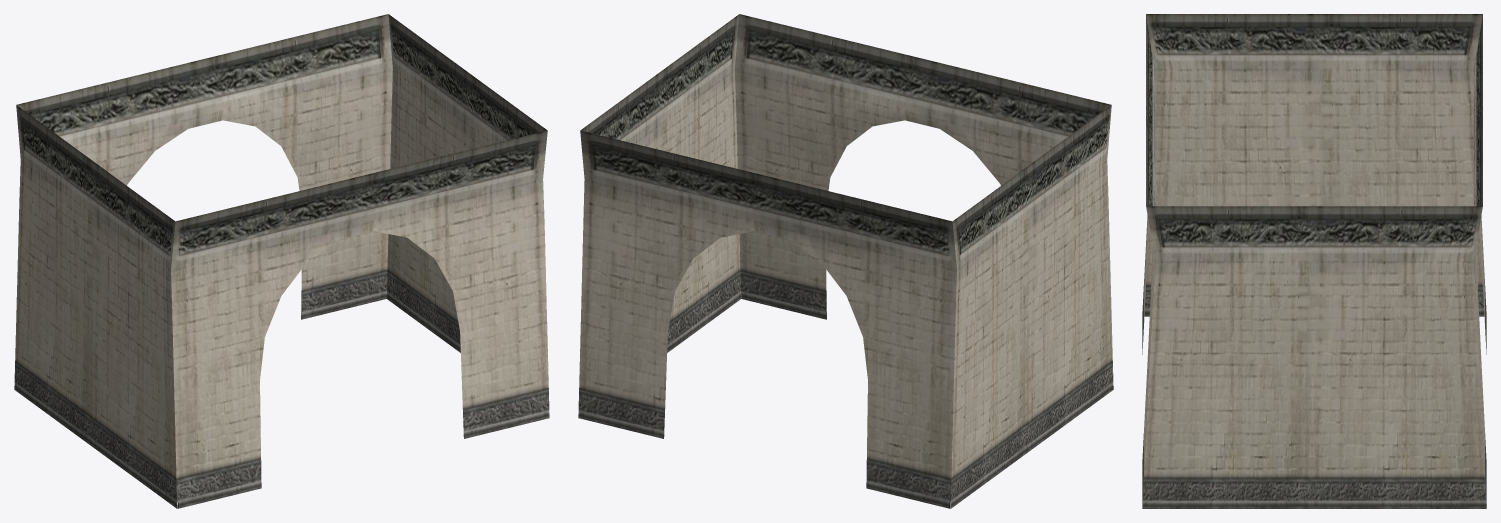
3 renders of one model, left to right at view 1: azimuth 30°, elevation 25°; view 2: azimuth 150°, elevation 25°; view 3: azimuth 270°, elevation 25°, orthographic. The views are drawn at different scales.
Visible parts, largest first — view 1: Cylinder01; view 2: Cylinder01; view 3: Cylinder01.
Part boxes in pixels (<box>): Cylinder01: <box>14,14,549,508</box>; Cylinder01: <box>578,14,1113,508</box>; Cylinder01: <box>1142,14,1486,508</box>.
Size of the model in its own units: 150 by 110 by 114.
